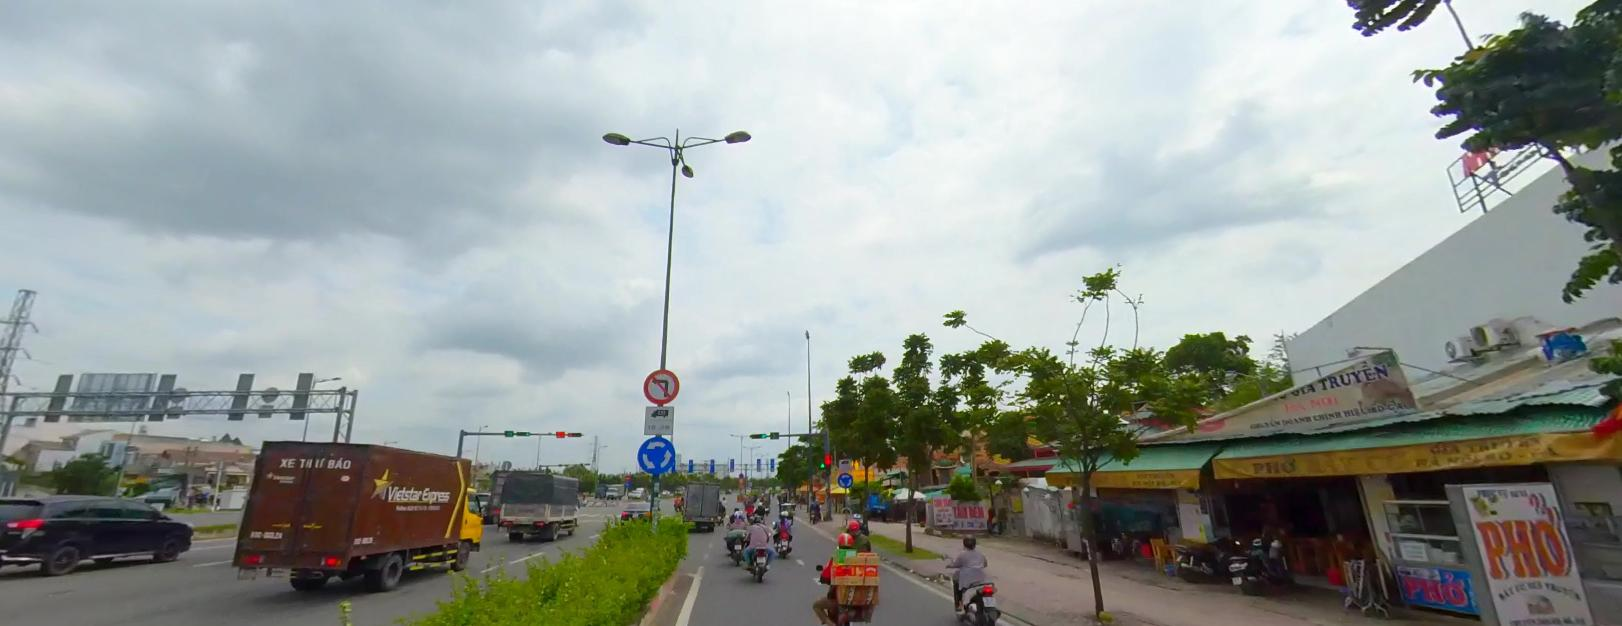Cam nguoc chieu: (624, 474, 630, 479)
Cam re: (640, 365, 677, 403)
Hieu lenh: (635, 434, 675, 474), (836, 470, 852, 486), (624, 480, 630, 485)
